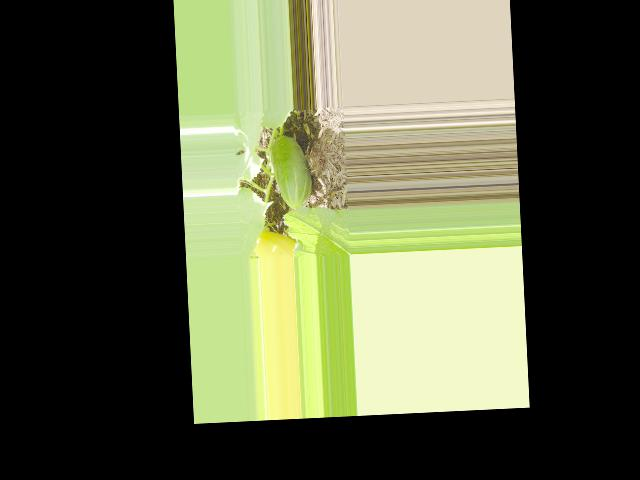cucumber: (269, 134, 313, 210)
